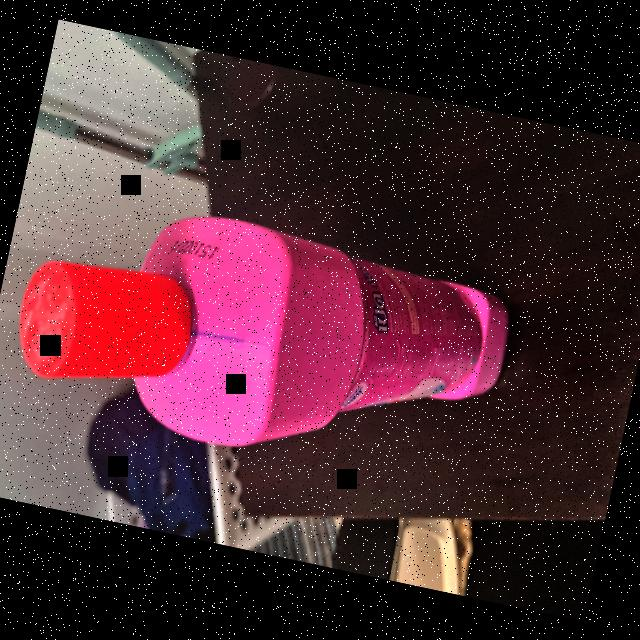chemical_plastic_bottle: (0, 176, 535, 506)
